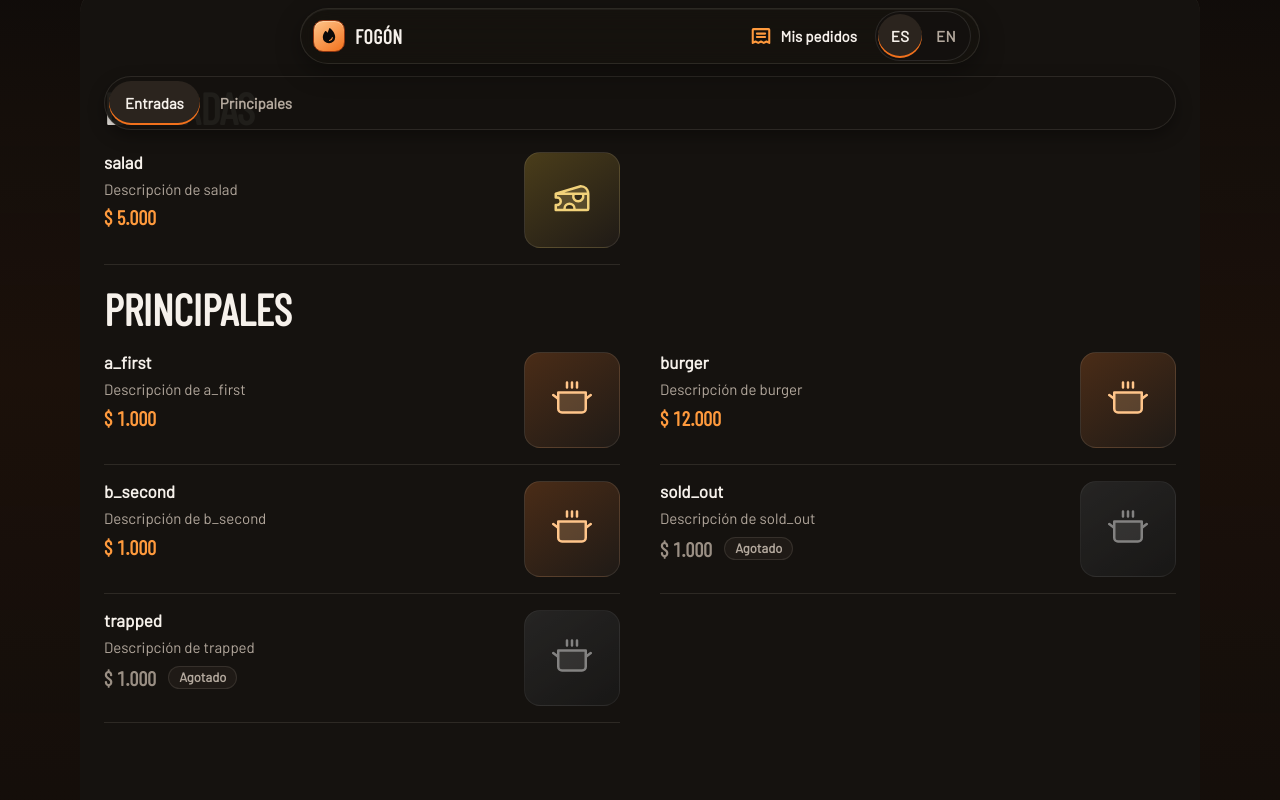
Test: App: providers y mesa del QR › monta el pedido en curso de la mesa: agregar un plato lo guarda por mesa (T7)
The image size is (1280, 800).
(page scrolled)
Click the button "a_first Descripción de a_first $ 1.000" at (128, 362), box [104, 336, 620, 464]
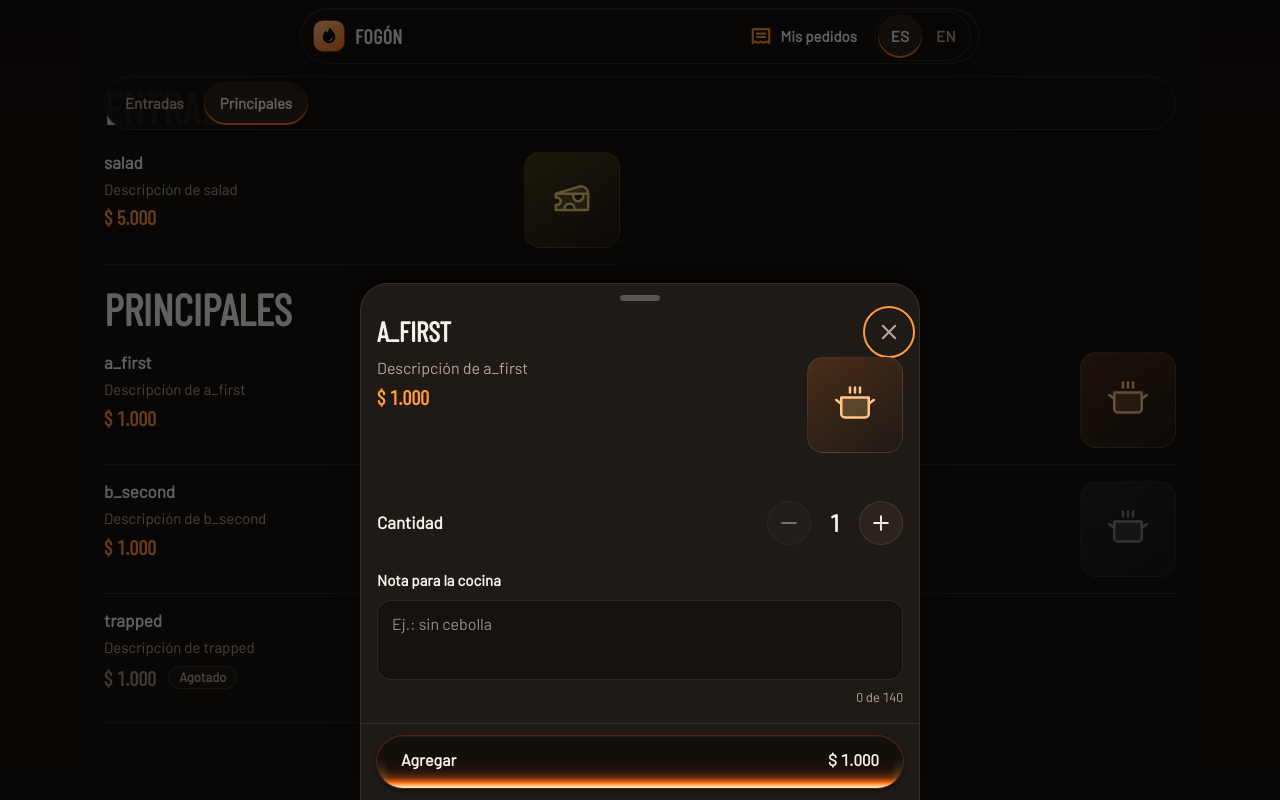
Click the button "Agregar $ 1.000" at (429, 760), box [377, 736, 903, 788]
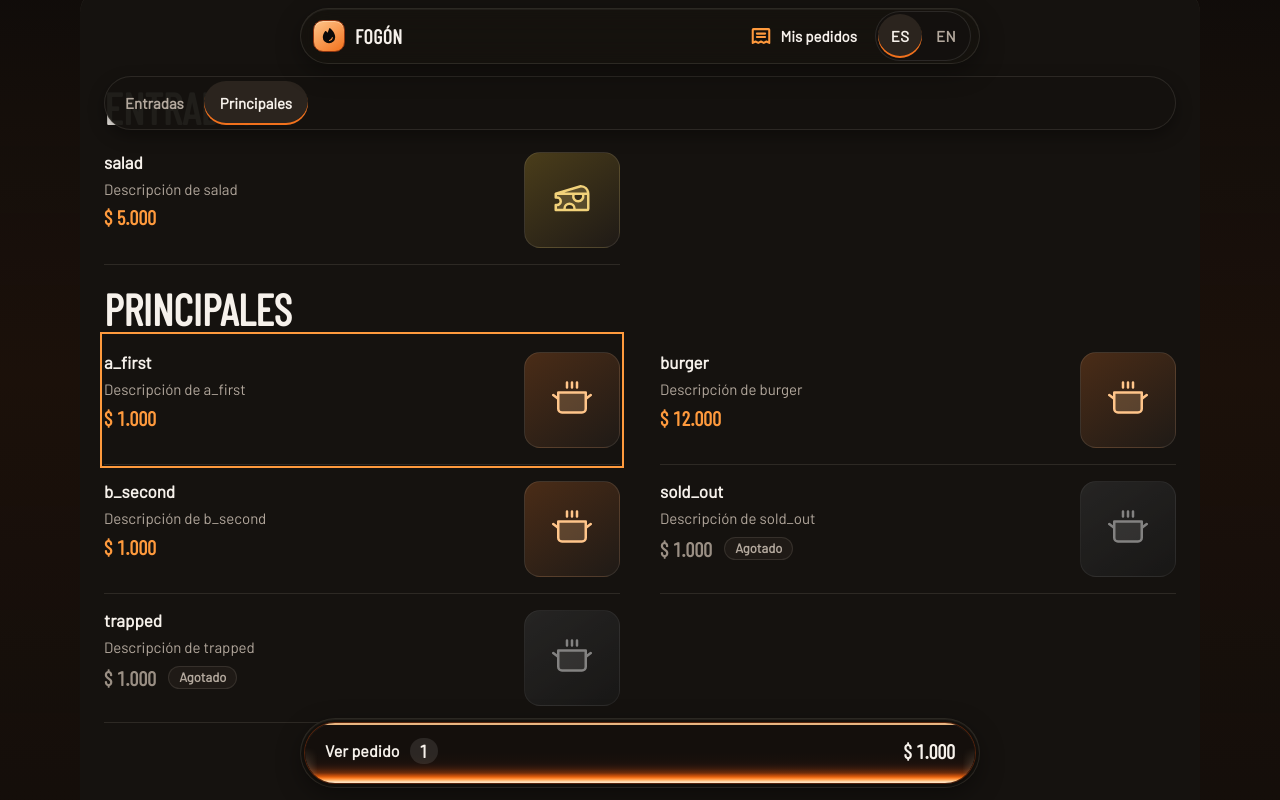
Check: the dialog is gone
